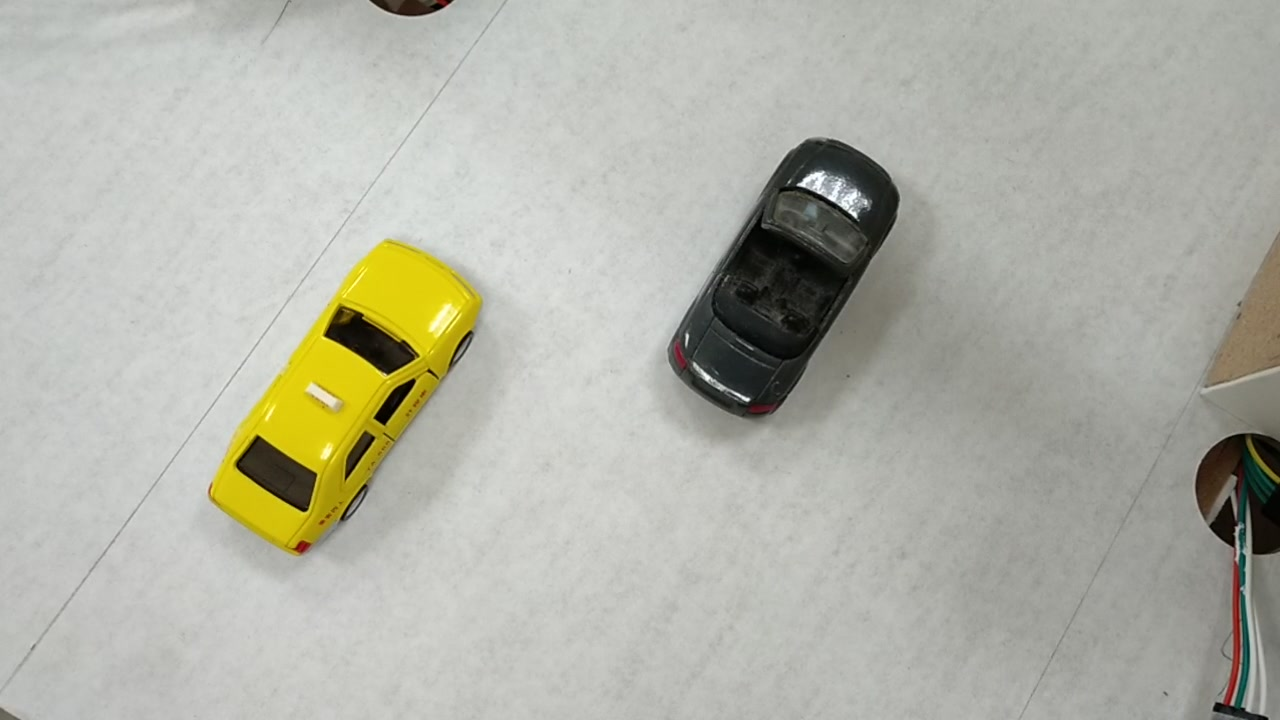car: (205, 238, 475, 556), (672, 134, 899, 409)
